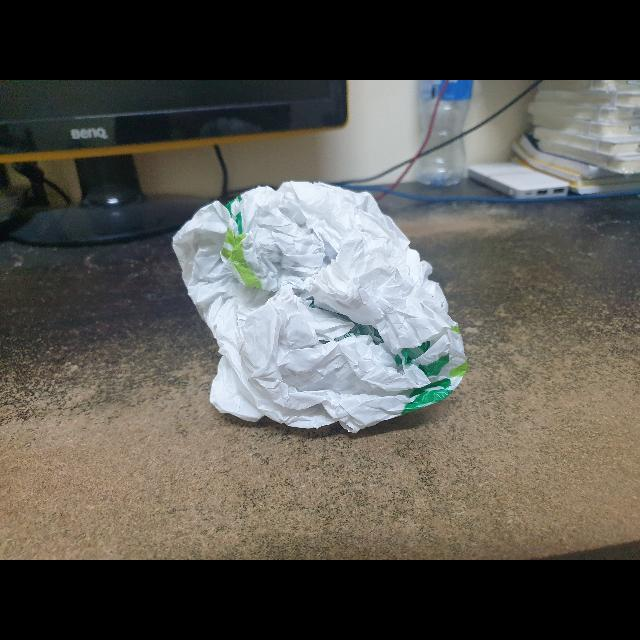plastic_bag: (168, 174, 474, 443)
